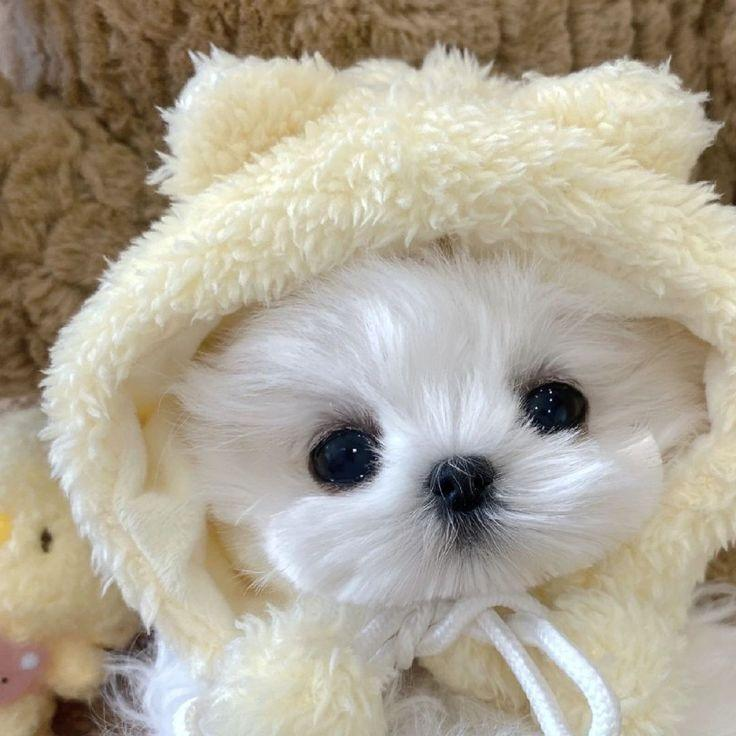puppy-dog: (171, 239, 709, 601)
